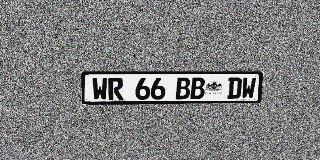plate: (81, 71, 264, 105)
